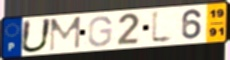2: (116, 12, 143, 48)
6: (180, 8, 203, 41)
G: (87, 15, 114, 48)
L: (150, 8, 176, 46)
M: (48, 15, 83, 53)
U: (18, 17, 54, 54)
